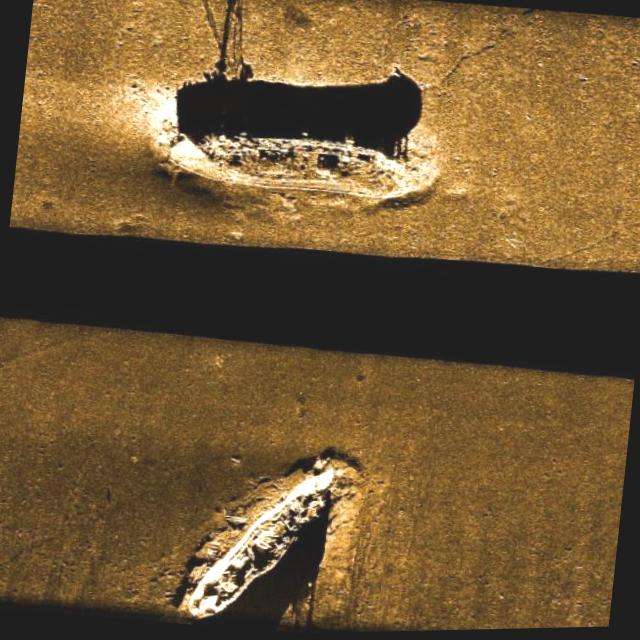shipwreck: (168, 444, 354, 636), (159, 117, 417, 210)
